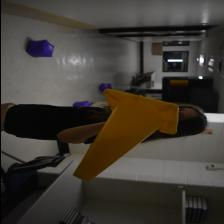cone: (70, 88, 178, 182)
cube: (26, 40, 54, 58), (72, 100, 90, 108), (98, 84, 111, 92)
